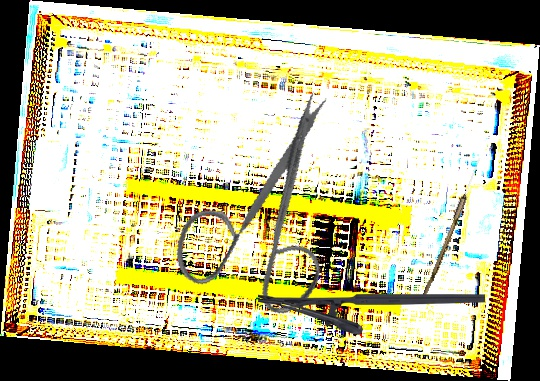Iris Scissors: (143, 85, 379, 337)
Needle Holder: (258, 292, 485, 336)
Surgical Spoon: (420, 156, 483, 303)
